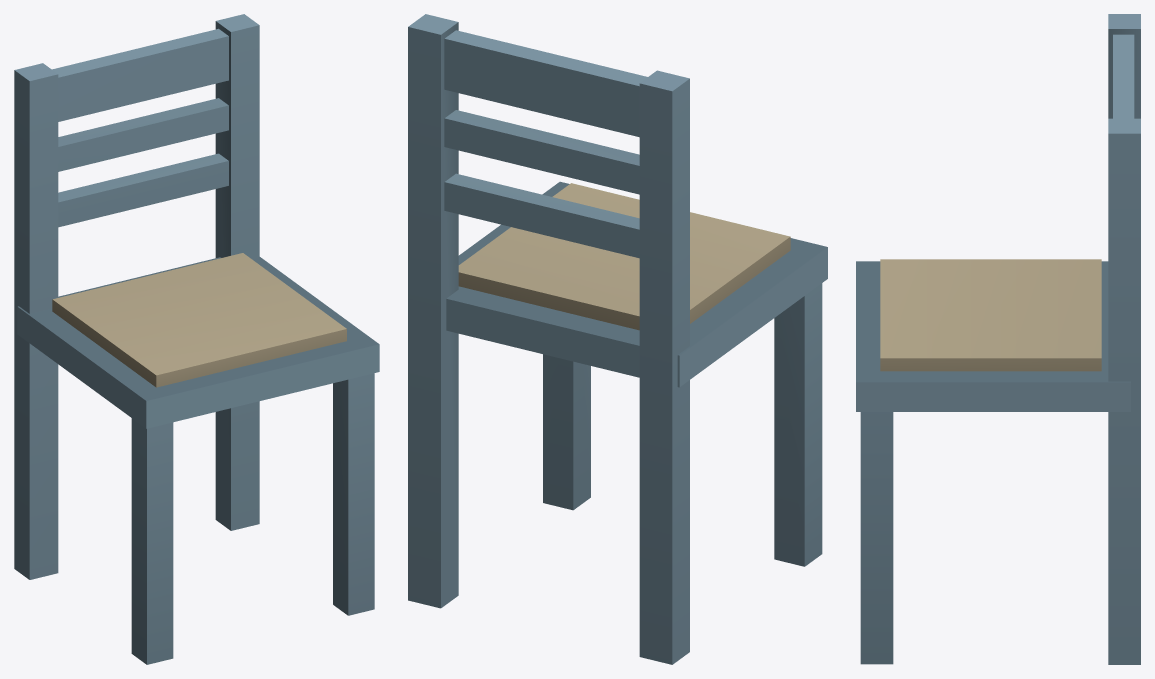
Rendered from chair.lod1.glb.
3 views of the same model, side by side, from view 1: azimuth 30°, elevation 25°; view 2: azimuth 150°, elevation 25°; view 3: azimuth 270°, elevation 25° (orthographic). The views are drawn at different scales.
Bounding box in the file's own units: 0.44 × 0.9 × 0.437.
